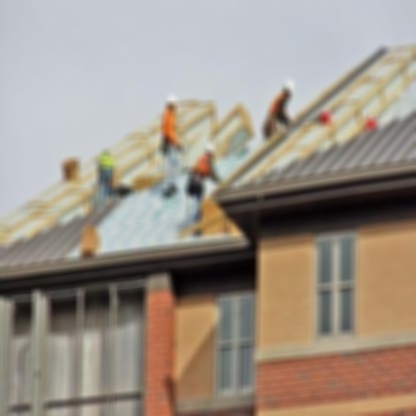vest: (268, 88, 289, 114), (162, 108, 178, 140), (194, 148, 210, 176), (98, 150, 115, 170)
white: (284, 75, 296, 96), (205, 138, 216, 155), (166, 92, 178, 107)
